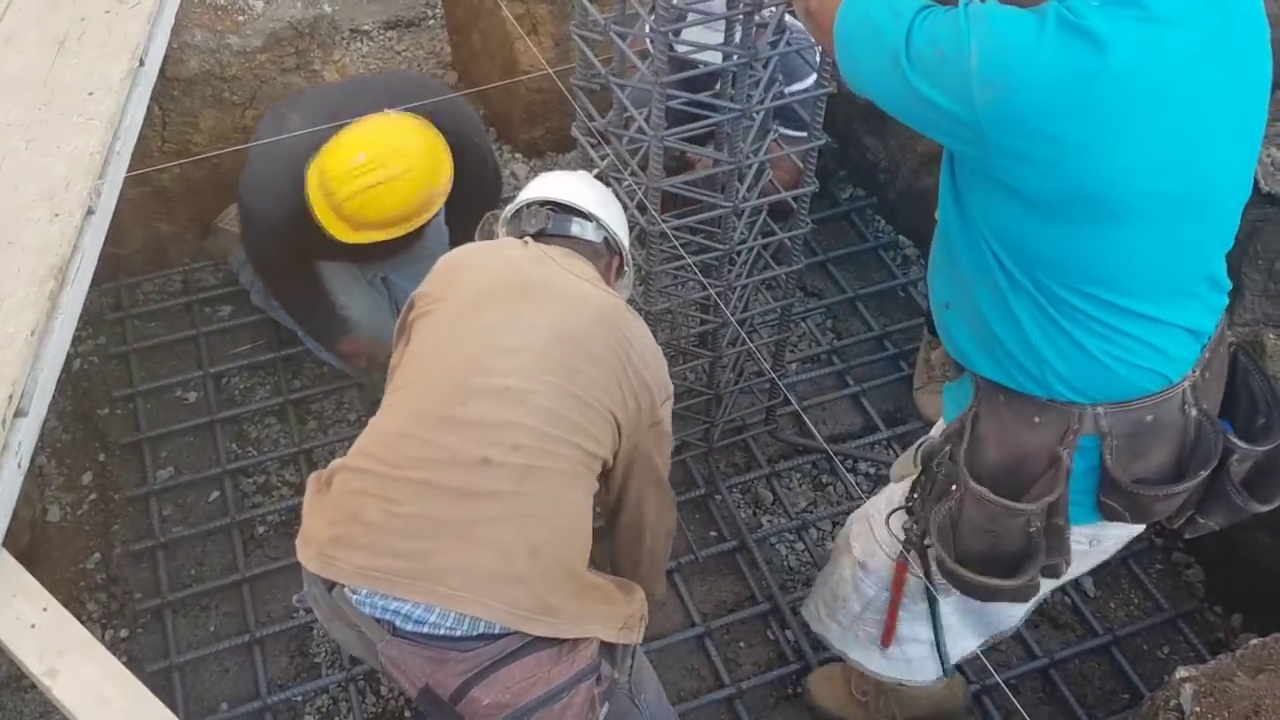helmet: (304, 106, 454, 256), (494, 166, 640, 275)
helmet-on: (262, 94, 470, 268), (484, 161, 651, 303)
person: (800, 0, 1277, 707), (298, 161, 681, 718), (238, 81, 484, 388), (563, 2, 823, 208)
